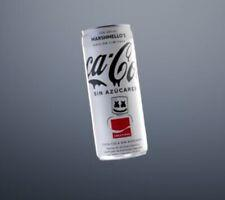metal: (82, 24, 148, 161)
